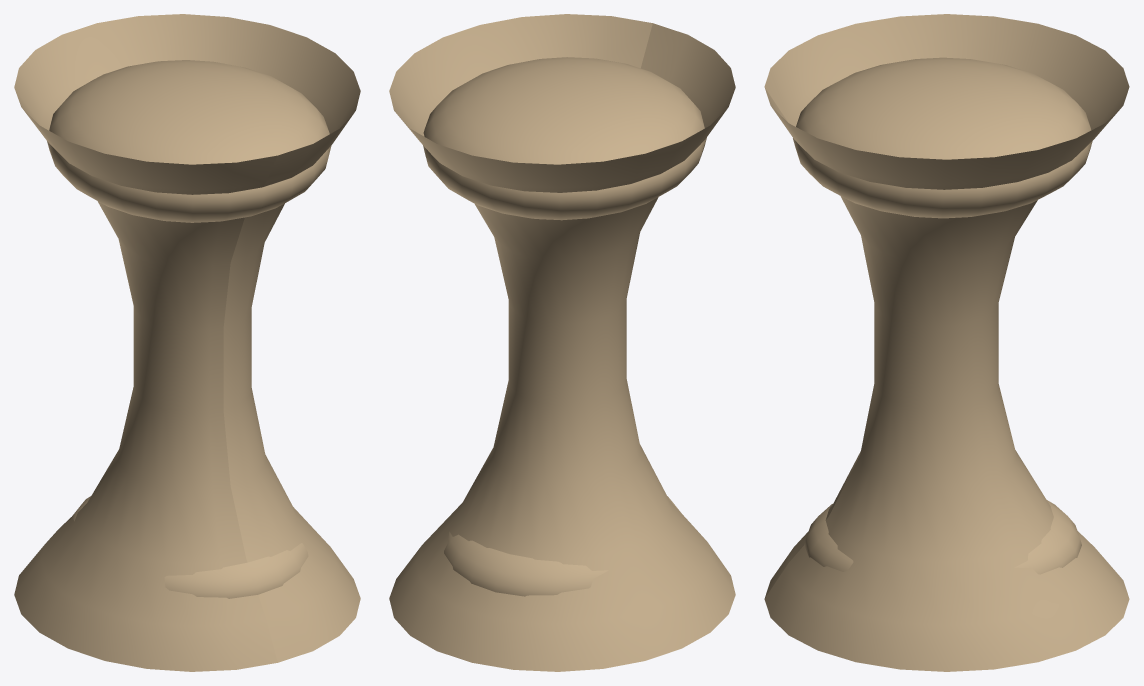
File: left_digit_3_distal.glb
The picture shows the model from 3 angles, left to right: view 1: azimuth 30°, elevation 25°; view 2: azimuth 150°, elevation 25°; view 3: azimuth 270°, elevation 25°; orthographic projection.
Parts seen in each view (by area): view 1: left_digit_3_distal:diaphysis, left_digit_3_distal:proximal-envelope, left_digit_3_distal:distal-envelope; view 2: left_digit_3_distal:diaphysis, left_digit_3_distal:proximal-envelope, left_digit_3_distal:distal-envelope; view 3: left_digit_3_distal:diaphysis, left_digit_3_distal:proximal-envelope, left_digit_3_distal:distal-envelope.
Part boxes in pixels (<box>): left_digit_3_distal:diaphysis: <box>14,14,360,671</box>; left_digit_3_distal:proximal-envelope: <box>47,60,331,222</box>; left_digit_3_distal:distal-envelope: <box>69,496,308,598</box>; left_digit_3_distal:diaphysis: <box>389,14,735,671</box>; left_digit_3_distal:proximal-envelope: <box>423,57,706,220</box>; left_digit_3_distal:distal-envelope: <box>444,496,682,596</box>; left_digit_3_distal:diaphysis: <box>764,14,1129,671</box>; left_digit_3_distal:proximal-envelope: <box>793,57,1092,218</box>; left_digit_3_distal:distal-envelope: <box>804,500,1081,574</box>.
Size of the model in its own units: 0.0799 by 0.1316 by 0.0846.
